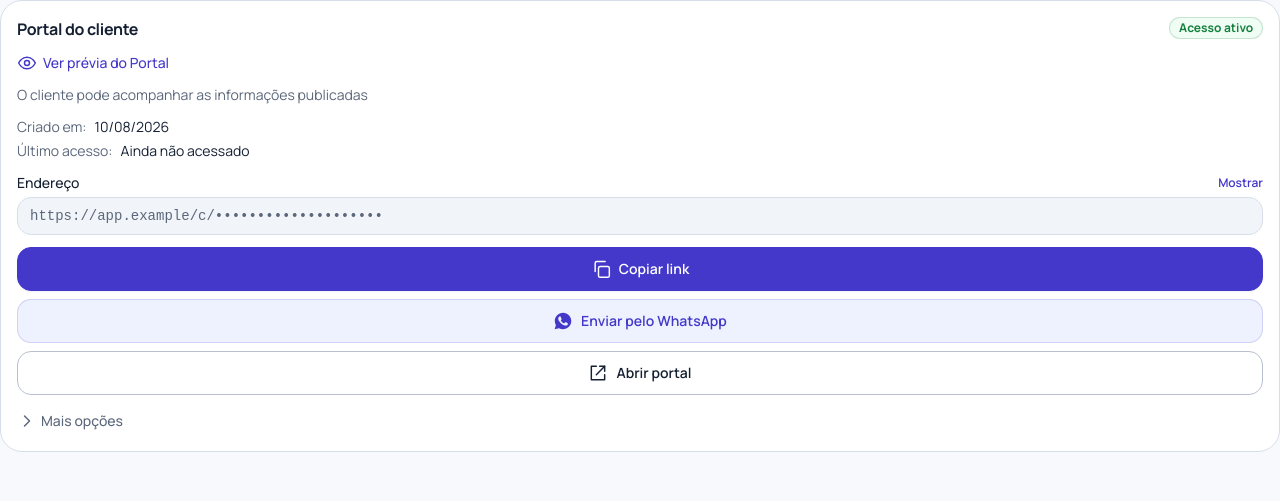
Test case: ClientPortalCard › shows copy error without generating a new link
The width and height of the screenshot is (1280, 501).
Click the button "Copiar link" at (640, 269), box left=17, top=247, right=1263, bottom=291
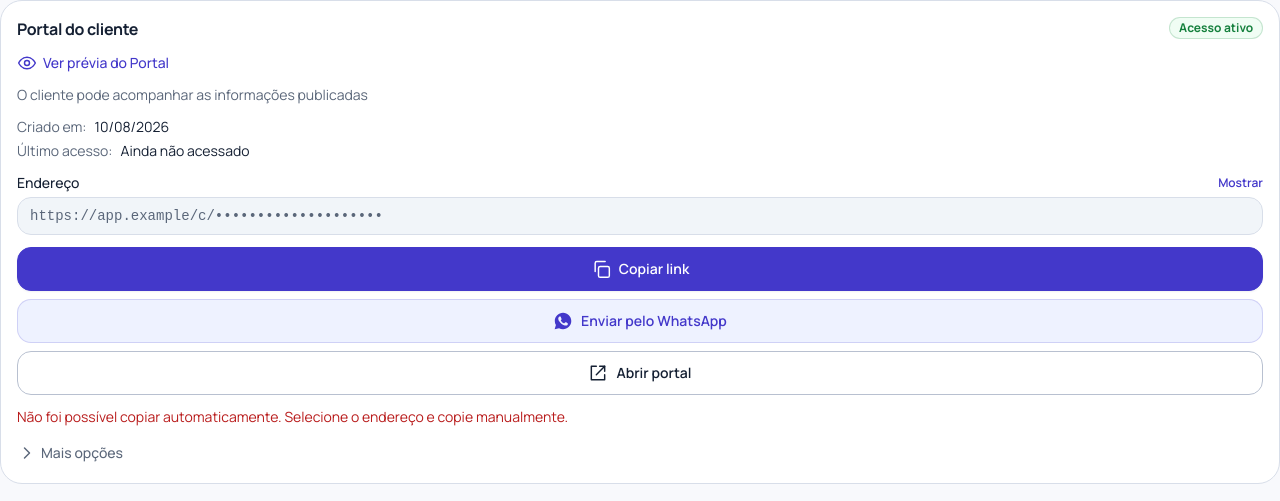
Expected: the text "Não foi possível copiar automaticamente" is shown, left=17, top=407, right=568, bottom=426
